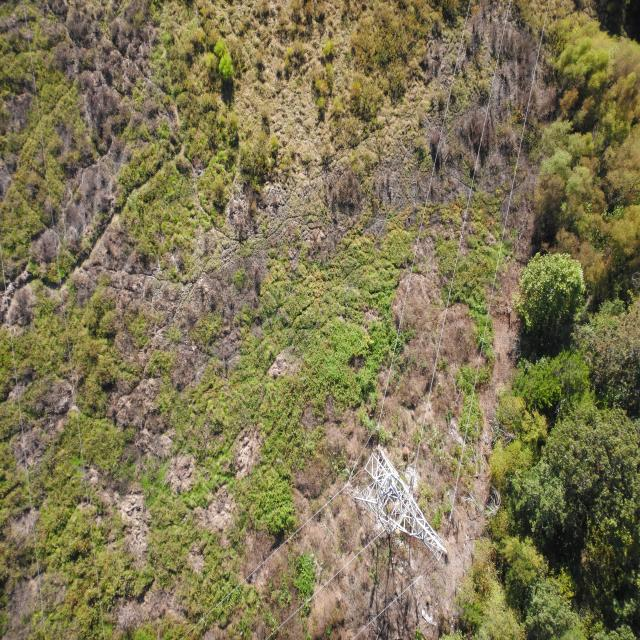Area of Interest: (525, 265, 633, 626)
